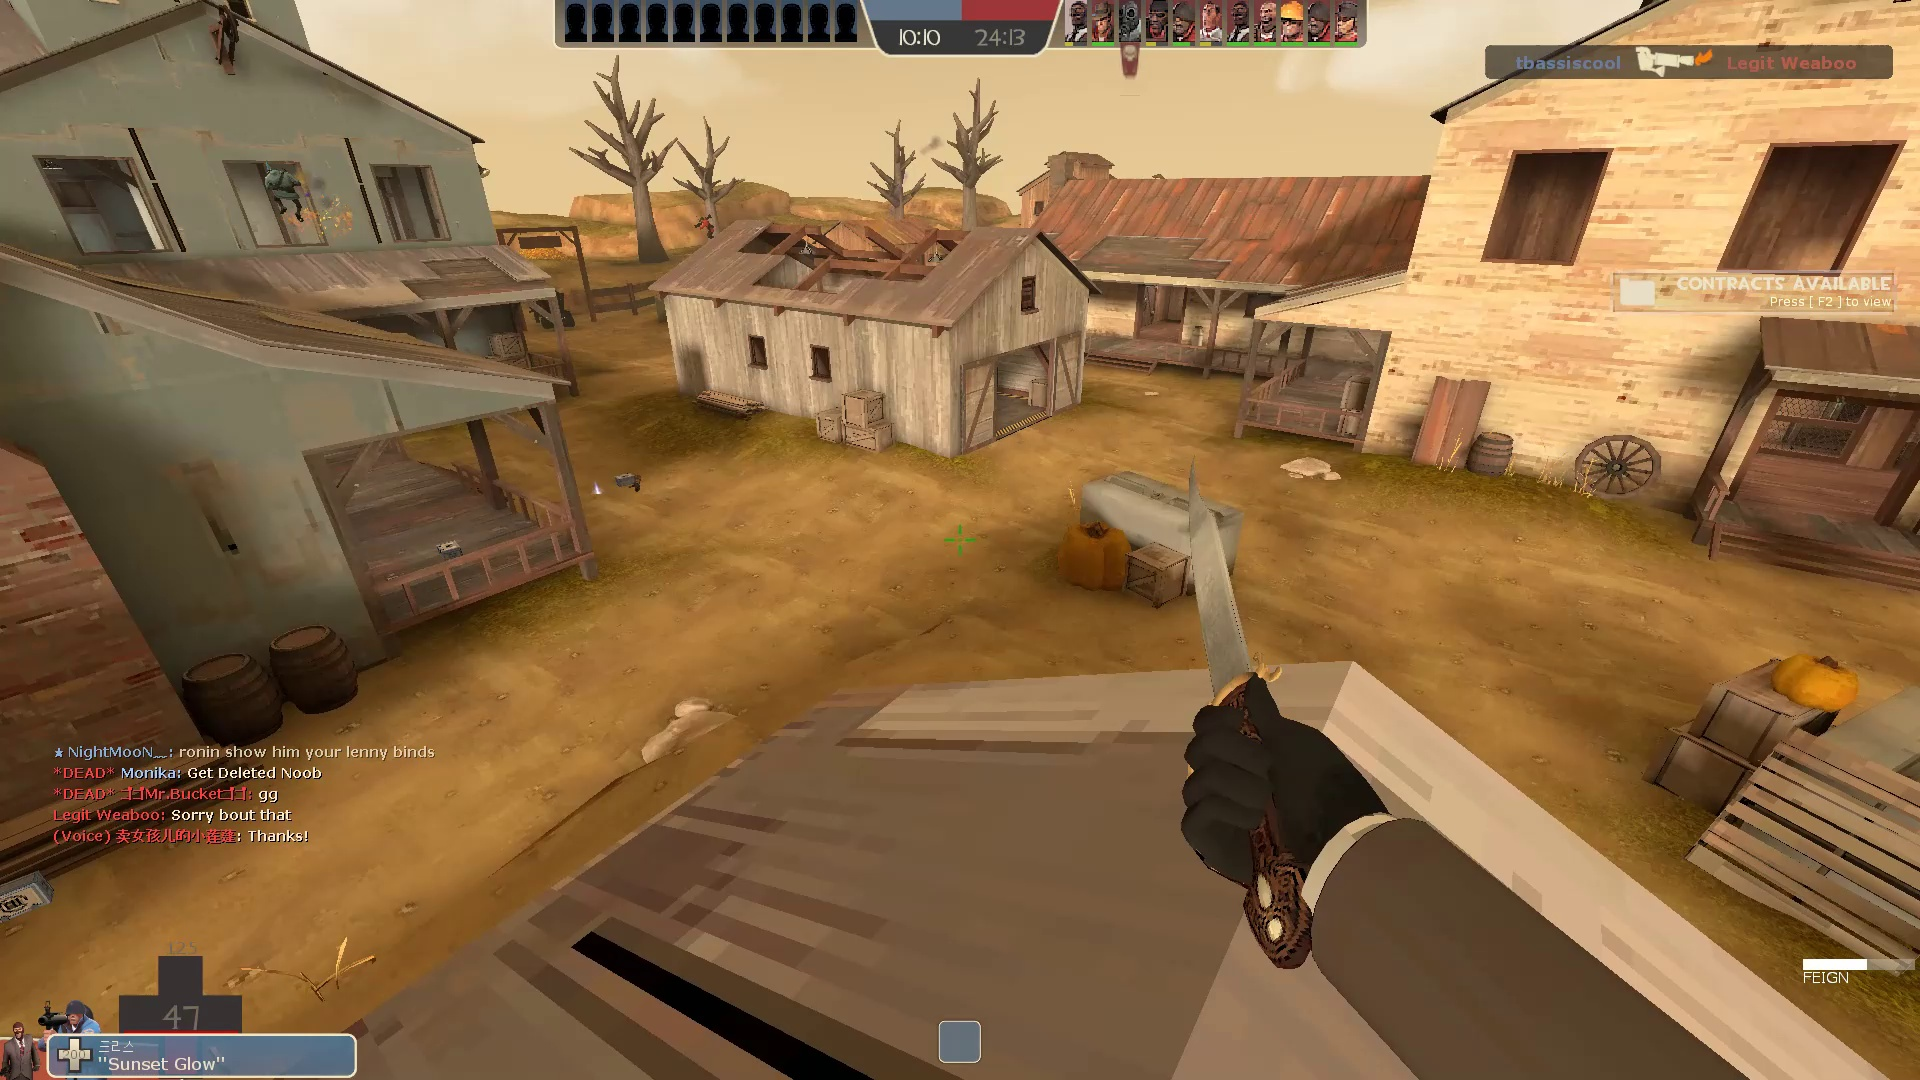blu_soldier: (251, 152, 313, 224)
red_soldier: (691, 214, 721, 241)
